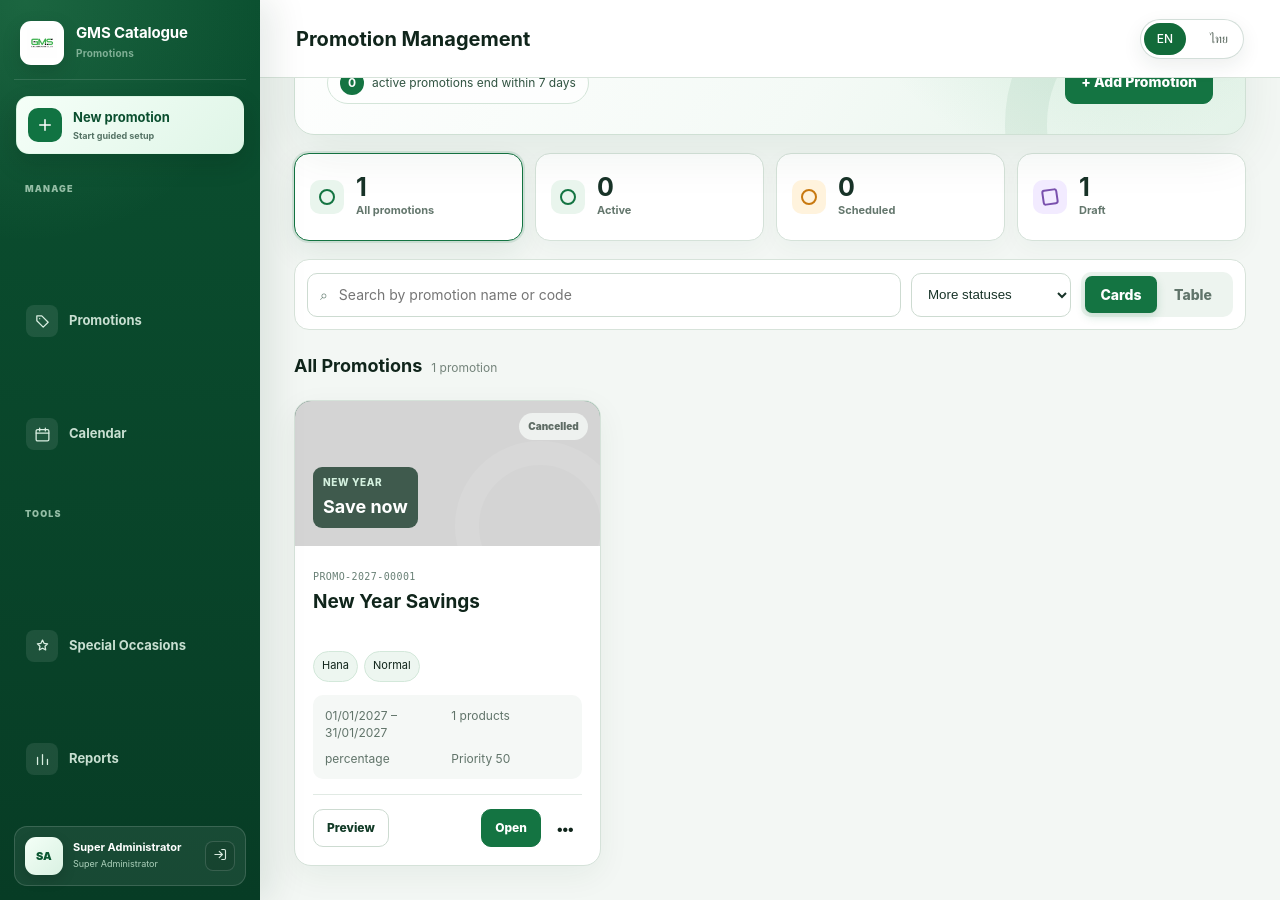
Promotion Management › offers Delete for a cancelled promotion
(page scrolled)
Expected: the heading "New Year Savings" is shown, x1=313 y1=590 x2=480 y2=613
Click the heading named "Promotion actions" at {"x": 565, "y": 828}, box x1=557 y1=820 x2=574 y2=837
(page scrolled)
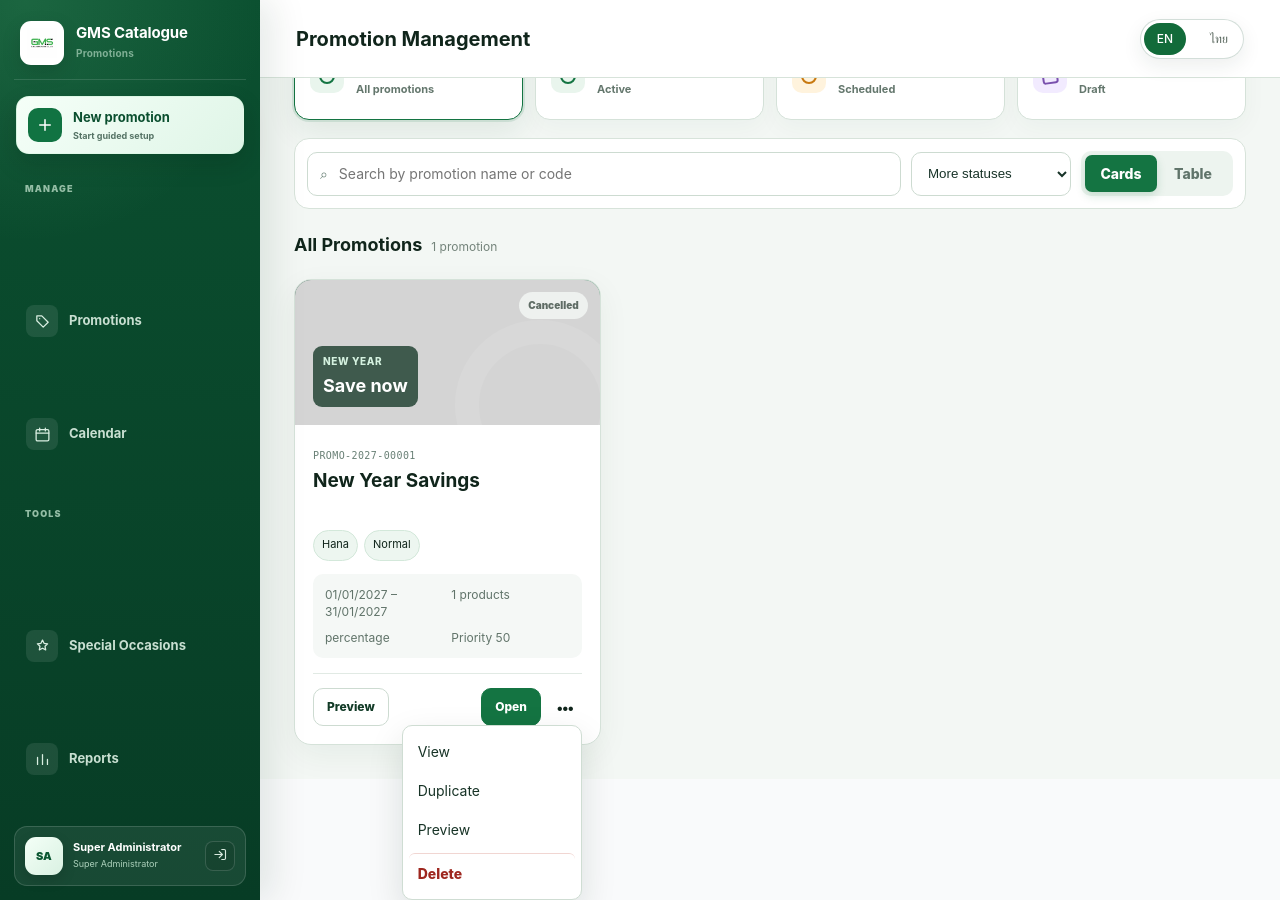
Now the button "Delete" is shown, box x1=409 y1=853 x2=575 y2=893
